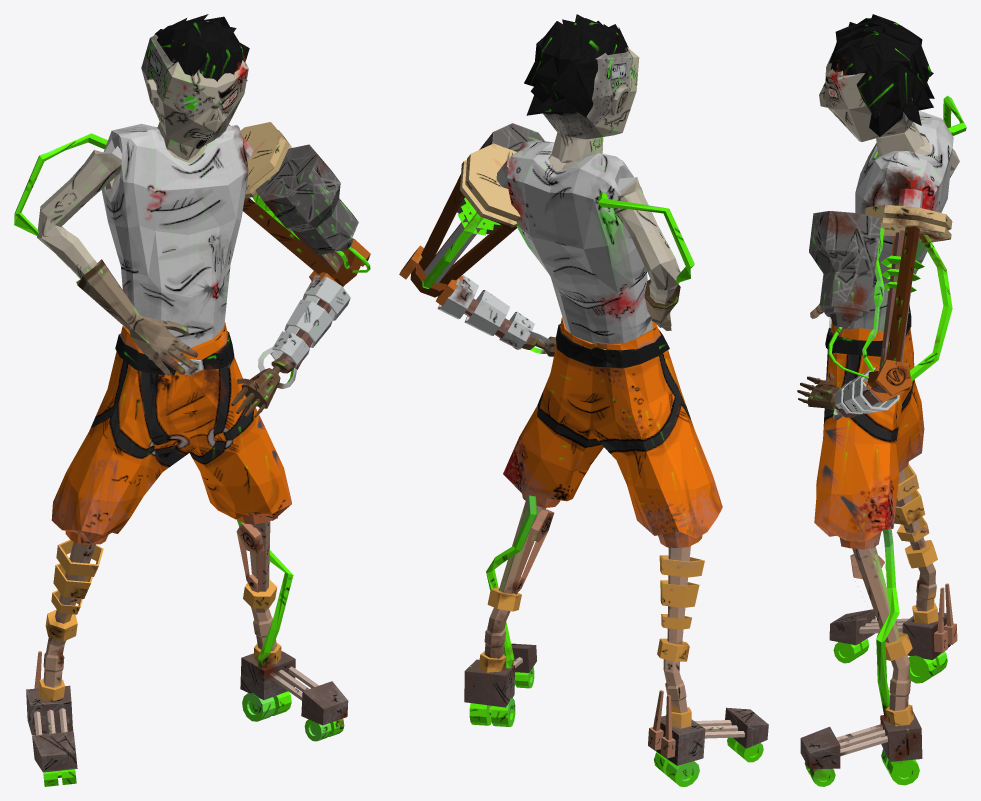
File: CyborgFINALAnimation_000030.obj
3 renders of one model, left to right at view 1: azimuth 30°, elevation 25°; view 2: azimuth 150°, elevation 25°; view 3: azimuth 270°, elevation 25°, orthographic.
Parts seen in each view (by area): view 1: CyborgMesh_Cube.002; view 2: CyborgMesh_Cube.002; view 3: CyborgMesh_Cube.002.
Part boxes in pixels (x1,y1,x2,y2): CyborgMesh_Cube.002: [14, 14, 370, 786]; CyborgMesh_Cube.002: [399, 14, 768, 786]; CyborgMesh_Cube.002: [797, 14, 966, 786].
Size of the model in its own units: 4.84 by 9.6 by 2.05.
